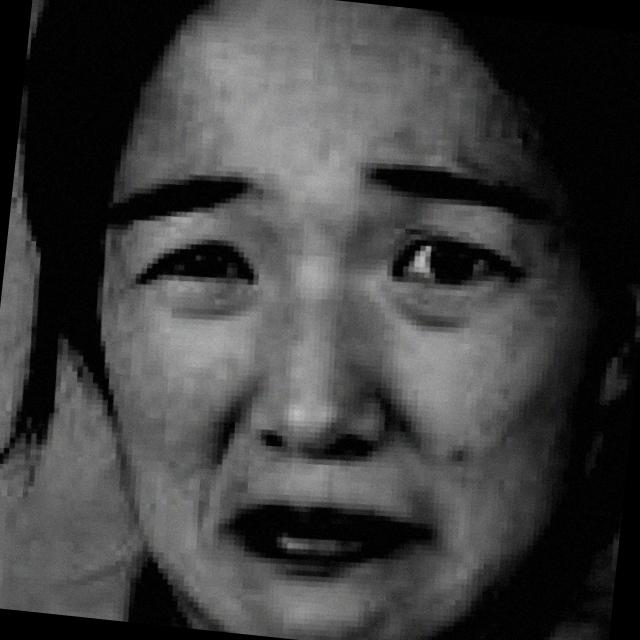disgust: (71, 43, 576, 640)
